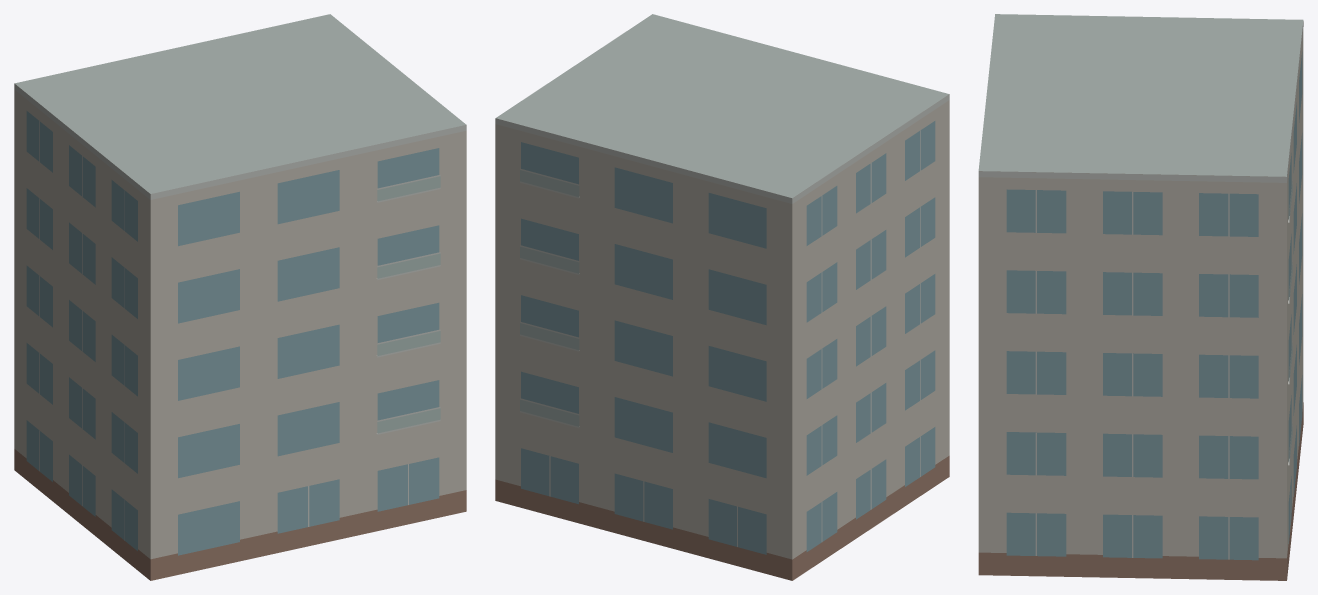
The model's file is survey-upis-32876547.glb.
The picture shows the model from 3 angles, left to right: view 1: azimuth 30°, elevation 25°; view 2: azimuth 150°, elevation 25°; view 3: azimuth 270°, elevation 25°; orthographic projection. The views are drawn at different scales.
Parts seen in each view (by area): view 1: survey-upis-32876547.tmp; view 2: survey-upis-32876547.tmp; view 3: survey-upis-32876547.tmp.
Part boxes in pixels (left/top/right/bottom): survey-upis-32876547.tmp: left=14, top=14, right=466, bottom=580; survey-upis-32876547.tmp: left=495, top=14, right=949, bottom=580; survey-upis-32876547.tmp: left=978, top=14, right=1303, bottom=580.
Bounding box in the file's own units: 13.83 × 16 × 11.67.
